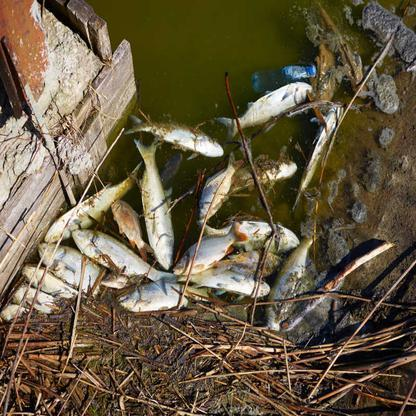deceased fish: (41, 161, 143, 244), (71, 227, 173, 290), (135, 140, 177, 270), (222, 79, 311, 137), (131, 116, 223, 157), (175, 219, 243, 274), (209, 217, 300, 257), (38, 241, 101, 292), (117, 279, 213, 312), (187, 266, 269, 300), (198, 154, 237, 221), (20, 265, 81, 302), (111, 199, 148, 256)
